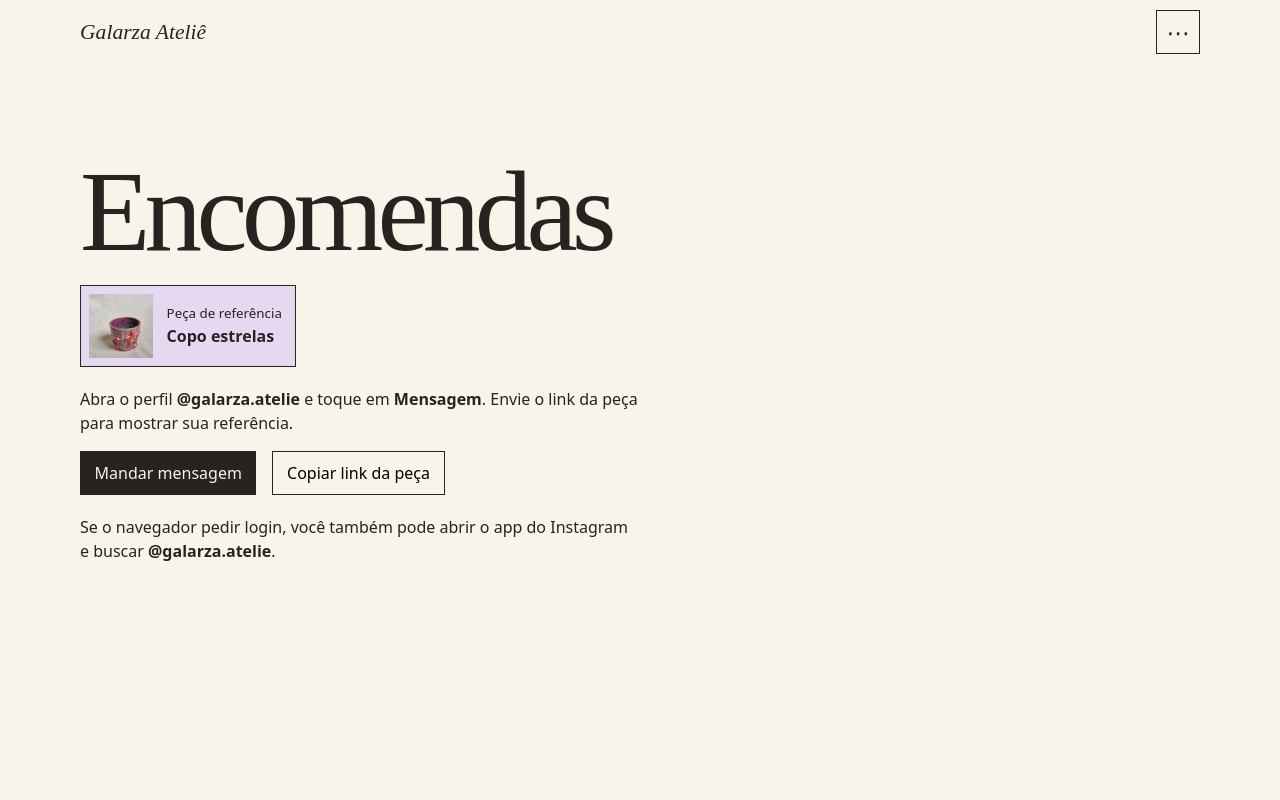
Scenario: Vitrine pública › mostra a peça associada e oferece o link quando copiar não é possível
The image size is (1280, 800).
Expected: the text "Copo estrelas" is shown, 167,324 -> 282,348
Click the button "Copiar link da peça" at (358, 473), box 272,451 -> 444,495
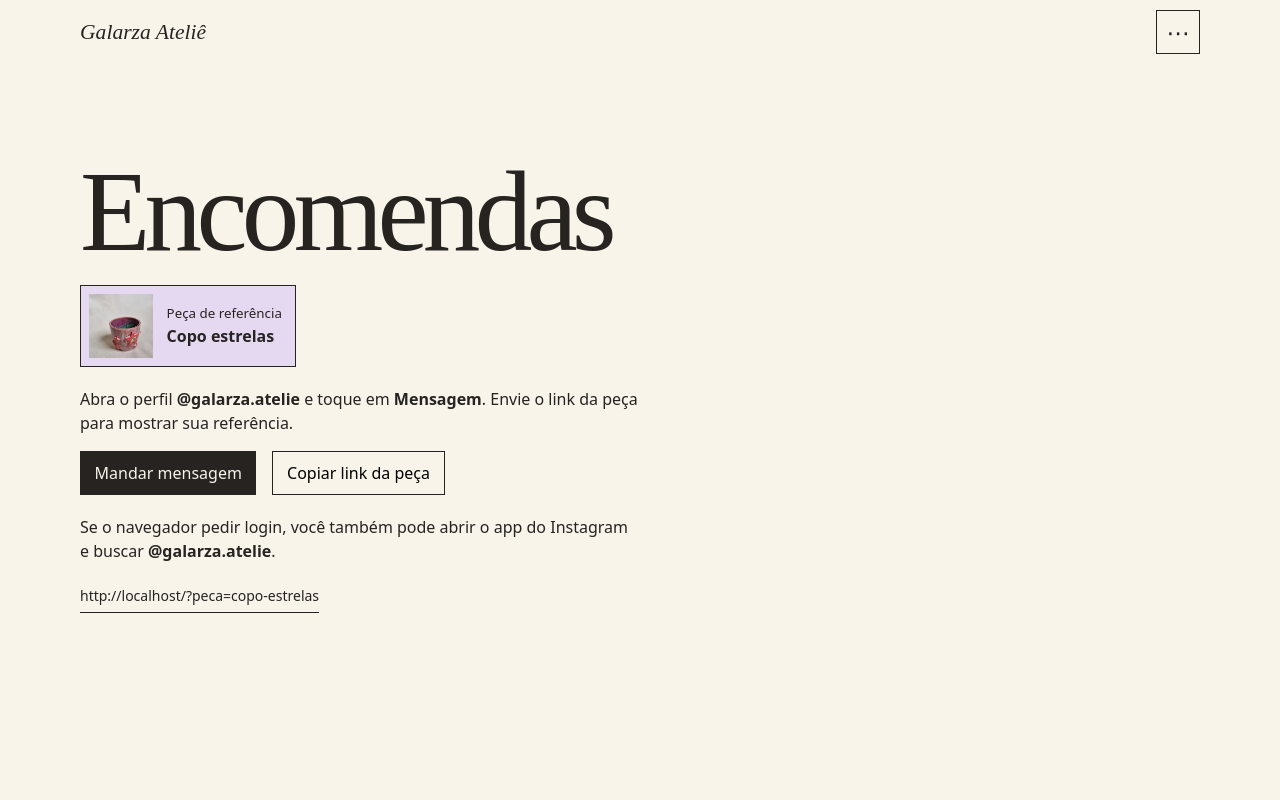
Result: the 4th link is shown at 80,585 -> 319,613
